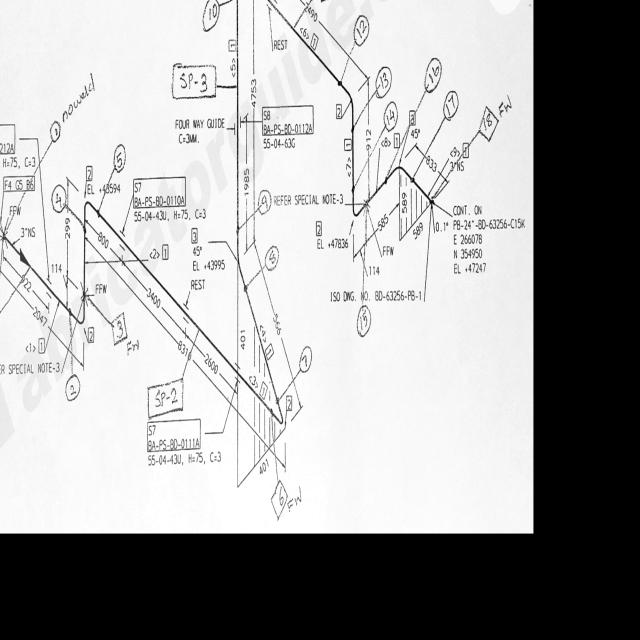Item number: (147, 414, 204, 455), (132, 175, 187, 210), (261, 102, 316, 136), (3, 174, 36, 193), (264, 340, 276, 363), (258, 380, 269, 403), (84, 162, 94, 185), (310, 30, 320, 53), (85, 324, 95, 344), (335, 101, 344, 120), (462, 140, 470, 161), (160, 243, 170, 259), (393, 131, 401, 150), (285, 393, 293, 412), (38, 337, 46, 355), (228, 38, 237, 53), (343, 137, 352, 152), (191, 226, 198, 245), (409, 108, 416, 127), (315, 219, 322, 238)
Measrement: (85, 233, 287, 477), (252, 237, 305, 412), (294, 0, 372, 82), (122, 254, 186, 339), (185, 326, 238, 401), (354, 192, 400, 266), (3, 246, 51, 316), (86, 213, 123, 270), (250, 0, 258, 247), (413, 140, 452, 189), (365, 72, 373, 203), (243, 112, 250, 253), (358, 247, 383, 283), (63, 202, 72, 288), (450, 158, 467, 175), (21, 224, 37, 240)
Pipeline: (0, 0, 289, 432), (259, 0, 439, 224)
Symbol: (336, 67, 358, 139), (235, 225, 250, 296), (67, 285, 89, 327), (383, 163, 417, 189), (348, 183, 371, 221), (81, 195, 102, 236), (268, 395, 286, 429), (16, 241, 32, 277), (0, 216, 8, 251)
Weld number: (423, 51, 443, 95), (442, 87, 461, 125), (351, 12, 371, 48), (375, 64, 393, 98), (64, 373, 82, 405), (50, 182, 67, 215), (263, 243, 281, 274), (111, 141, 128, 173), (298, 343, 313, 375), (383, 102, 399, 131), (258, 187, 272, 218)
other: (447, 207, 528, 278), (324, 285, 427, 325), (175, 117, 228, 145), (132, 207, 189, 221), (201, 0, 222, 35), (316, 236, 350, 251), (263, 135, 297, 149)
